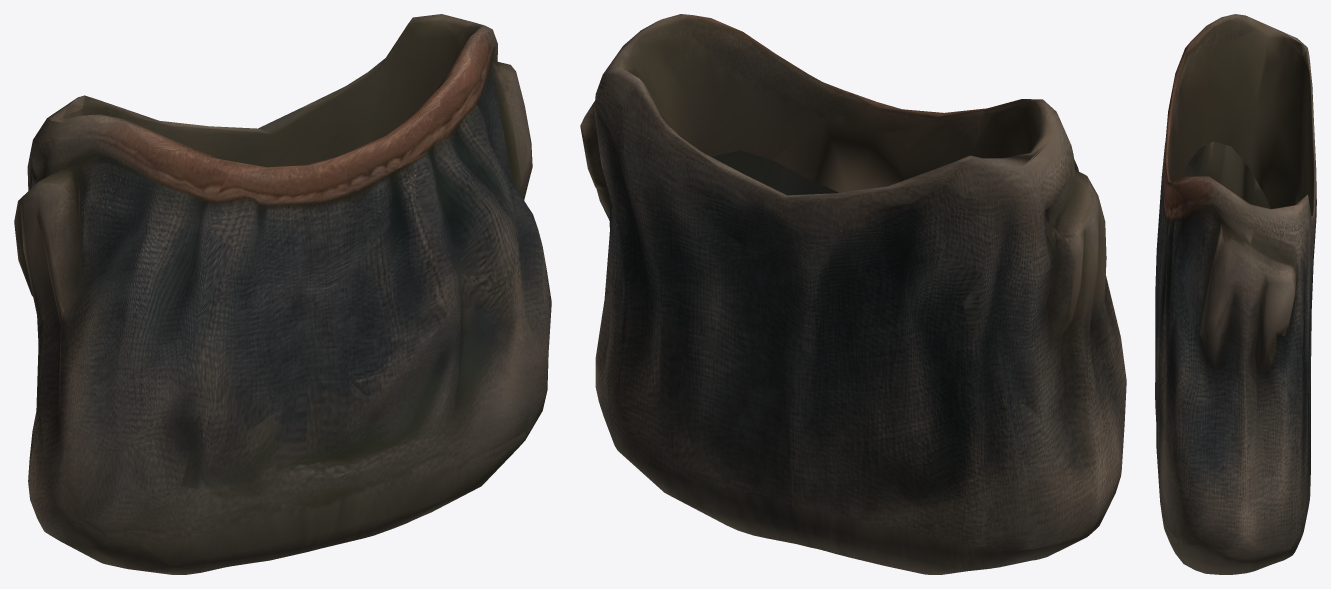
The model's file is SoftPouch-v2.glb.
3 views of the same model, side by side, from view 1: azimuth 30°, elevation 25°; view 2: azimuth 150°, elevation 25°; view 3: azimuth 270°, elevation 25° (orthographic). The views are drawn at different scales.
Visible parts, largest first — view 1: SoftPouch; view 2: SoftPouch; view 3: SoftPouch.
Boxes of the visible parts, x1,y1,x2,y2 form: SoftPouch: [14, 14, 551, 574]; SoftPouch: [580, 14, 1126, 574]; SoftPouch: [1155, 14, 1316, 574].
Bounding box in the file's own units: 0.0981 × 0.0881 × 0.0309.
1 material, 1 textured.
